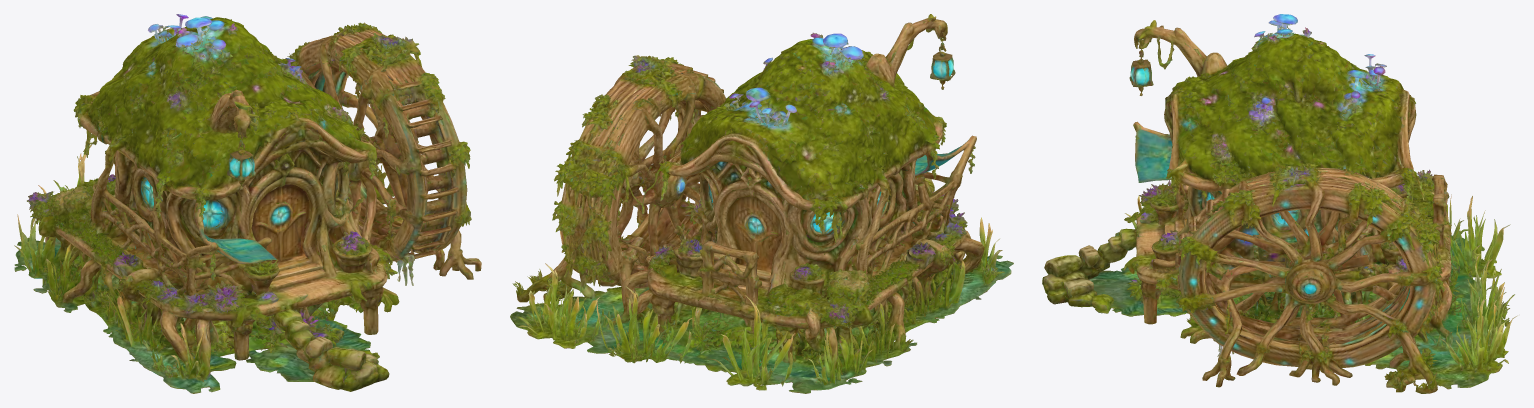
File: water-wheel-mill.glb
3 views of the same model, side by side, from view 1: azimuth 30°, elevation 25°; view 2: azimuth 150°, elevation 25°; view 3: azimuth 270°, elevation 25° (orthographic). The views are drawn at different scales.
Bounding box in the file's own units: 1.63 × 1.15 × 1.9.
1 material, 1 textured.
